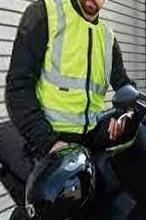Vest: (37, 5, 111, 132)
